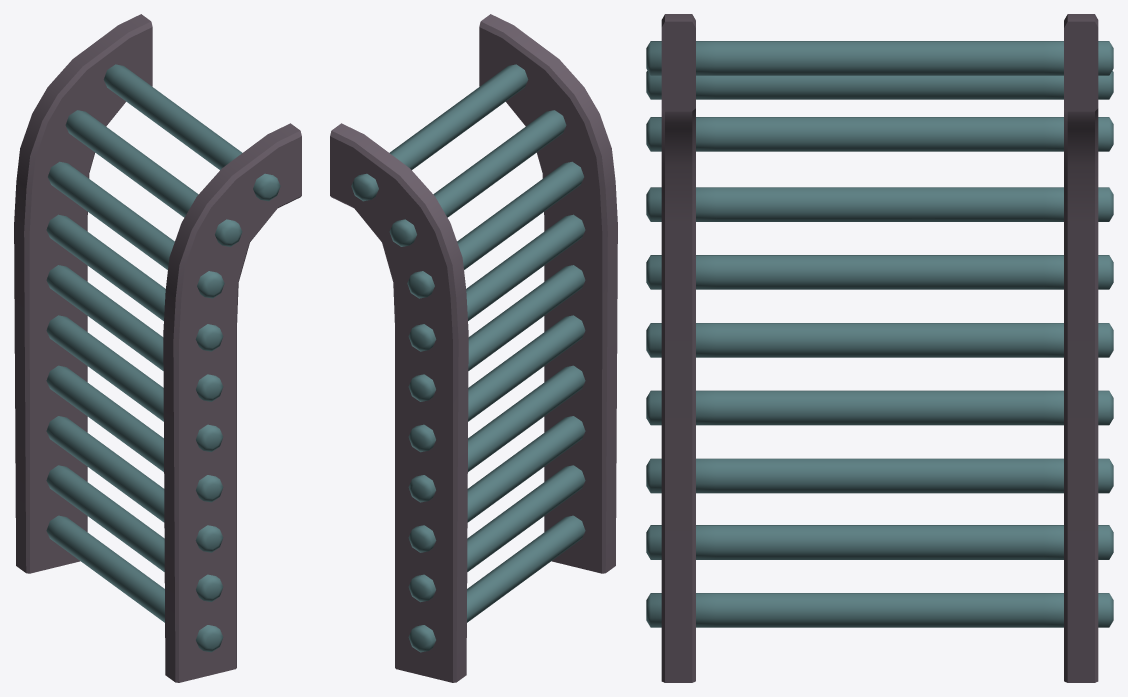
Rendered from GB_129_ladder_var02.glb.
3 views of the same model, side by side, from view 1: azimuth 30°, elevation 25°; view 2: azimuth 150°, elevation 25°; view 3: azimuth 270°, elevation 25° (orthographic). The views are drawn at different scales.
Parts seen in each view (by area): view 1: Ladder129Var02; view 2: Ladder129Var02; view 3: Ladder129Var02.
Part boxes in pixels (x1=…): Ladder129Var02: x1=14, y1=14, x2=301, y2=682; Ladder129Var02: x1=330, y1=14, x2=617, y2=682; Ladder129Var02: x1=646, y1=14, x2=1113, y2=682.
Size of the model in its own units: 0.4723 by 1.85 by 1.11.
